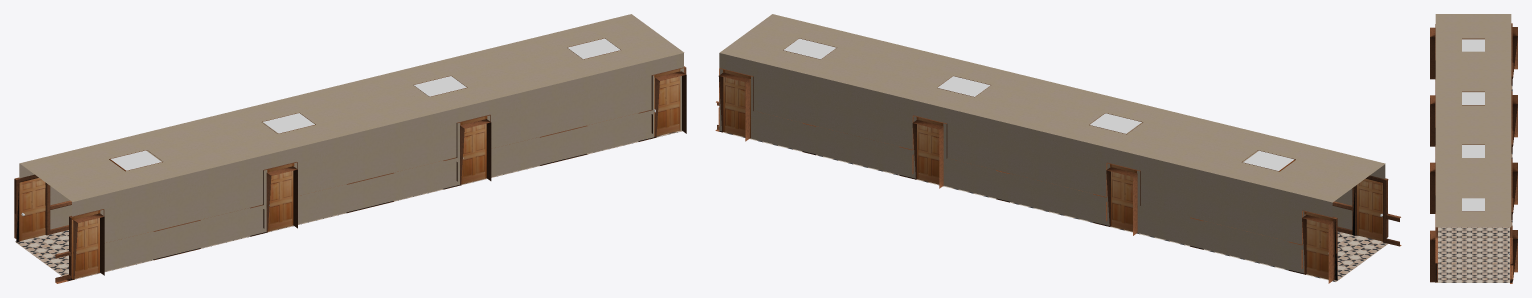
The model's file is Hallway3.fbx.
3 renders of one model, left to right at view 1: azimuth 30°, elevation 25°; view 2: azimuth 150°, elevation 25°; view 3: azimuth 270°, elevation 25°, orthographic. The views are drawn at different scales.
Visible parts, largest first — view 1: Walls, Ceiling, Doors, Door Frame.001, Lights, Floor, Door Frame; view 2: Walls, Ceiling, Doors, Door Frame, Lights, Floor, Door Frame.001; view 3: Ceiling, Floor, Door Frame, Door Frame.001, Lights, Lights Frame.
Boxes of the visible parts, bbox=[...] form: Walls: bbox=[19, 53, 683, 271]; Ceiling: bbox=[20, 14, 684, 201]; Doors: bbox=[19, 69, 680, 279]; Door Frame.001: bbox=[55, 66, 686, 283]; Lights: bbox=[110, 38, 620, 170]; Floor: bbox=[15, 130, 682, 279]; Door Frame: bbox=[14, 174, 71, 242]; Walls: bbox=[719, 53, 1385, 273]; Ceiling: bbox=[719, 14, 1385, 202]; Doors: bbox=[723, 69, 1382, 279]; Door Frame: bbox=[715, 68, 1337, 283]; Lights: bbox=[783, 38, 1294, 170]; Floor: bbox=[722, 132, 1387, 281]; Door Frame.001: bbox=[1332, 175, 1401, 246]; Ceiling: bbox=[1435, 14, 1511, 227]; Floor: bbox=[1435, 84, 1512, 282]; Door Frame: bbox=[1510, 23, 1517, 283]; Door Frame.001: bbox=[1430, 24, 1437, 282]; Lights: bbox=[1462, 39, 1484, 211]; Lights Frame: bbox=[1462, 38, 1484, 211].
Bounding box in the file's own units: 155 × 18.32 × 26.15.
Materials: 8 (5 with a texture image).
